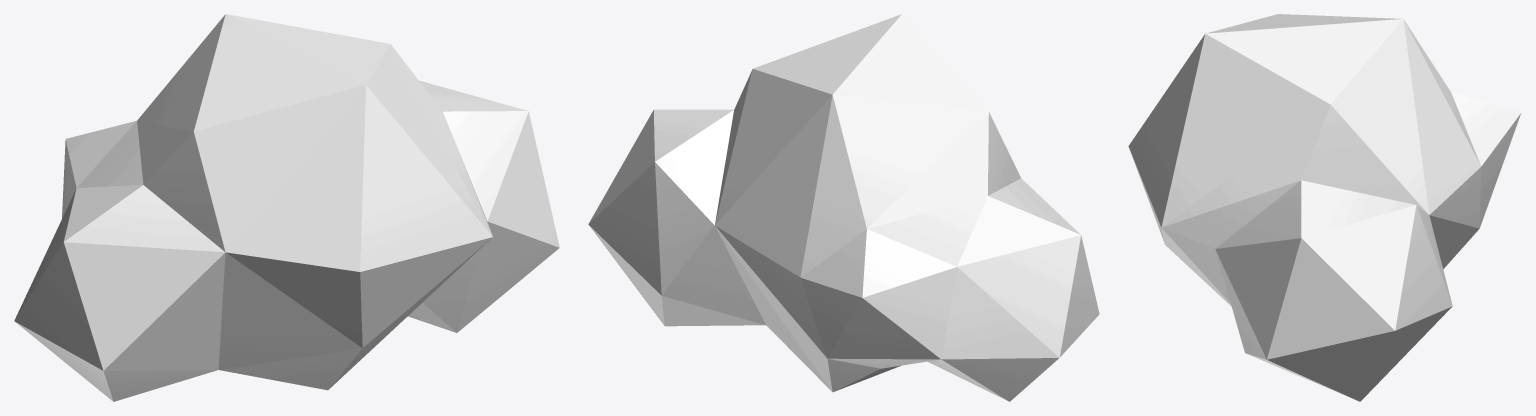
The model's file is GL-Cloud-02-LOD2.fbx.
3 views of the same model, side by side, from view 1: azimuth 30°, elevation 25°; view 2: azimuth 150°, elevation 25°; view 3: azimuth 270°, elevation 25° (orthographic). The views are drawn at different scales.
Visible parts, largest first — view 1: GL_Cloud_02; view 2: GL_Cloud_02; view 3: GL_Cloud_02.
Boxes of the visible parts, x1,y1,x2,y2 form: GL_Cloud_02: [14, 14, 559, 401]; GL_Cloud_02: [588, 14, 1099, 401]; GL_Cloud_02: [1128, 14, 1521, 401].
Bounding box in the file's own units: 1.77 × 1.1 × 1.32.
